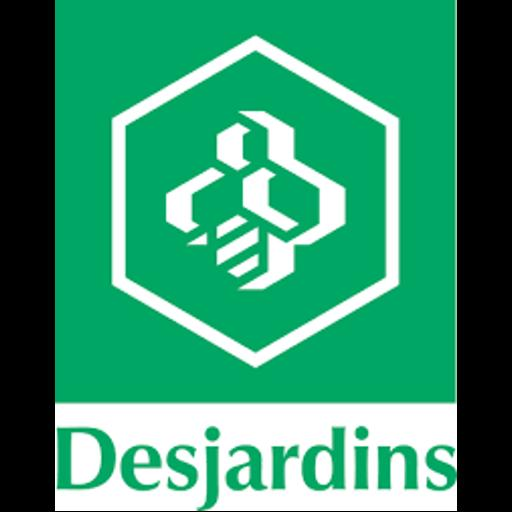Desjardins: (55, 0, 457, 511)
